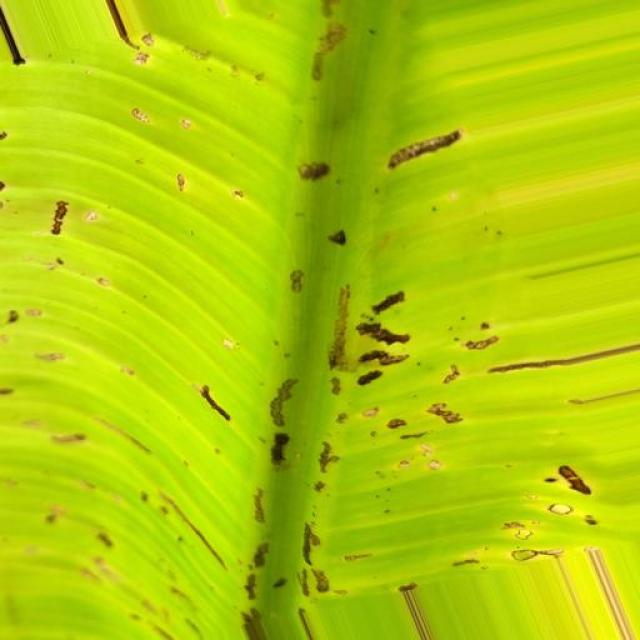Black_rot: (3, 5, 640, 639)
